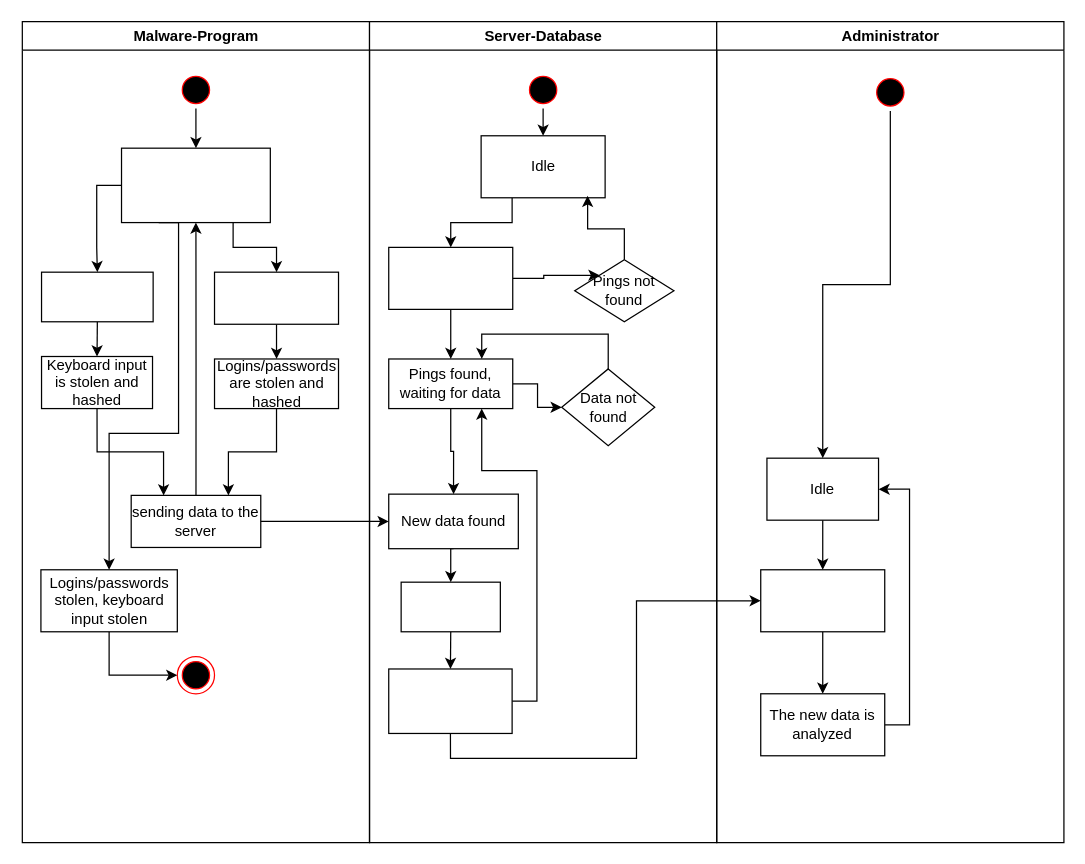
Image size: 1085x864. Some labels were removed from this diagram. Each missing label, with the centre of its shape:
"Activates, pings the server, freezes until certain conditions are met" goes at pixel 195 185.
"Check for pings from malware" goes at pixel 450 277.
"Found keyboard input for the first time" goes at pixel 96 296.
"Logins/passwords found first time" goes at pixel 276 297.
"Notification received" goes at pixel 822 600.
"Send notification to administrator" goes at pixel 450 700.
"Store data" goes at pixel 450 606.
